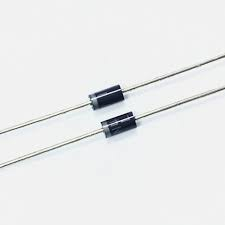diode: (80, 108, 151, 143), (76, 78, 139, 112)
